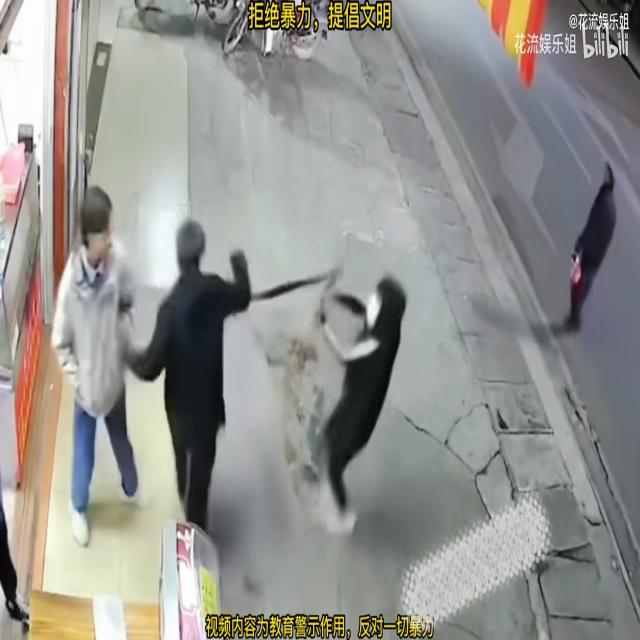nofight: (46, 170, 140, 546), (152, 208, 246, 540), (324, 254, 402, 546), (562, 112, 620, 382)
